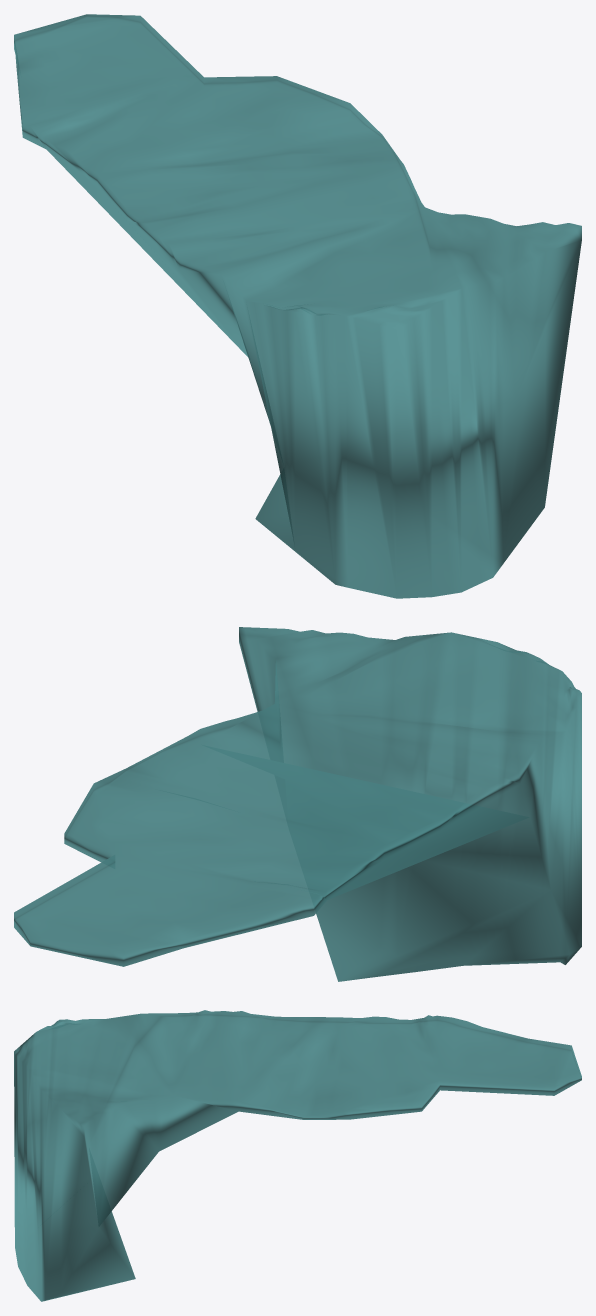
File: Wasser Alpha.fbx
3 views of the same model, one above another, from view 1: azimuth 30°, elevation 25°; view 2: azimuth 150°, elevation 25°; view 3: azimuth 270°, elevation 25° (orthographic). The views are drawn at different scales.
Visible parts, largest first — view 1: Wasser Alpha; view 2: Wasser Alpha; view 3: Wasser Alpha.
Part boxes in pixels (x1,y1,x2,y2): Wasser Alpha: [14, 14, 581, 598]; Wasser Alpha: [14, 627, 581, 981]; Wasser Alpha: [14, 1010, 581, 1301].
Bounding box in the file's own units: 1371 × 1208 × 2806.
